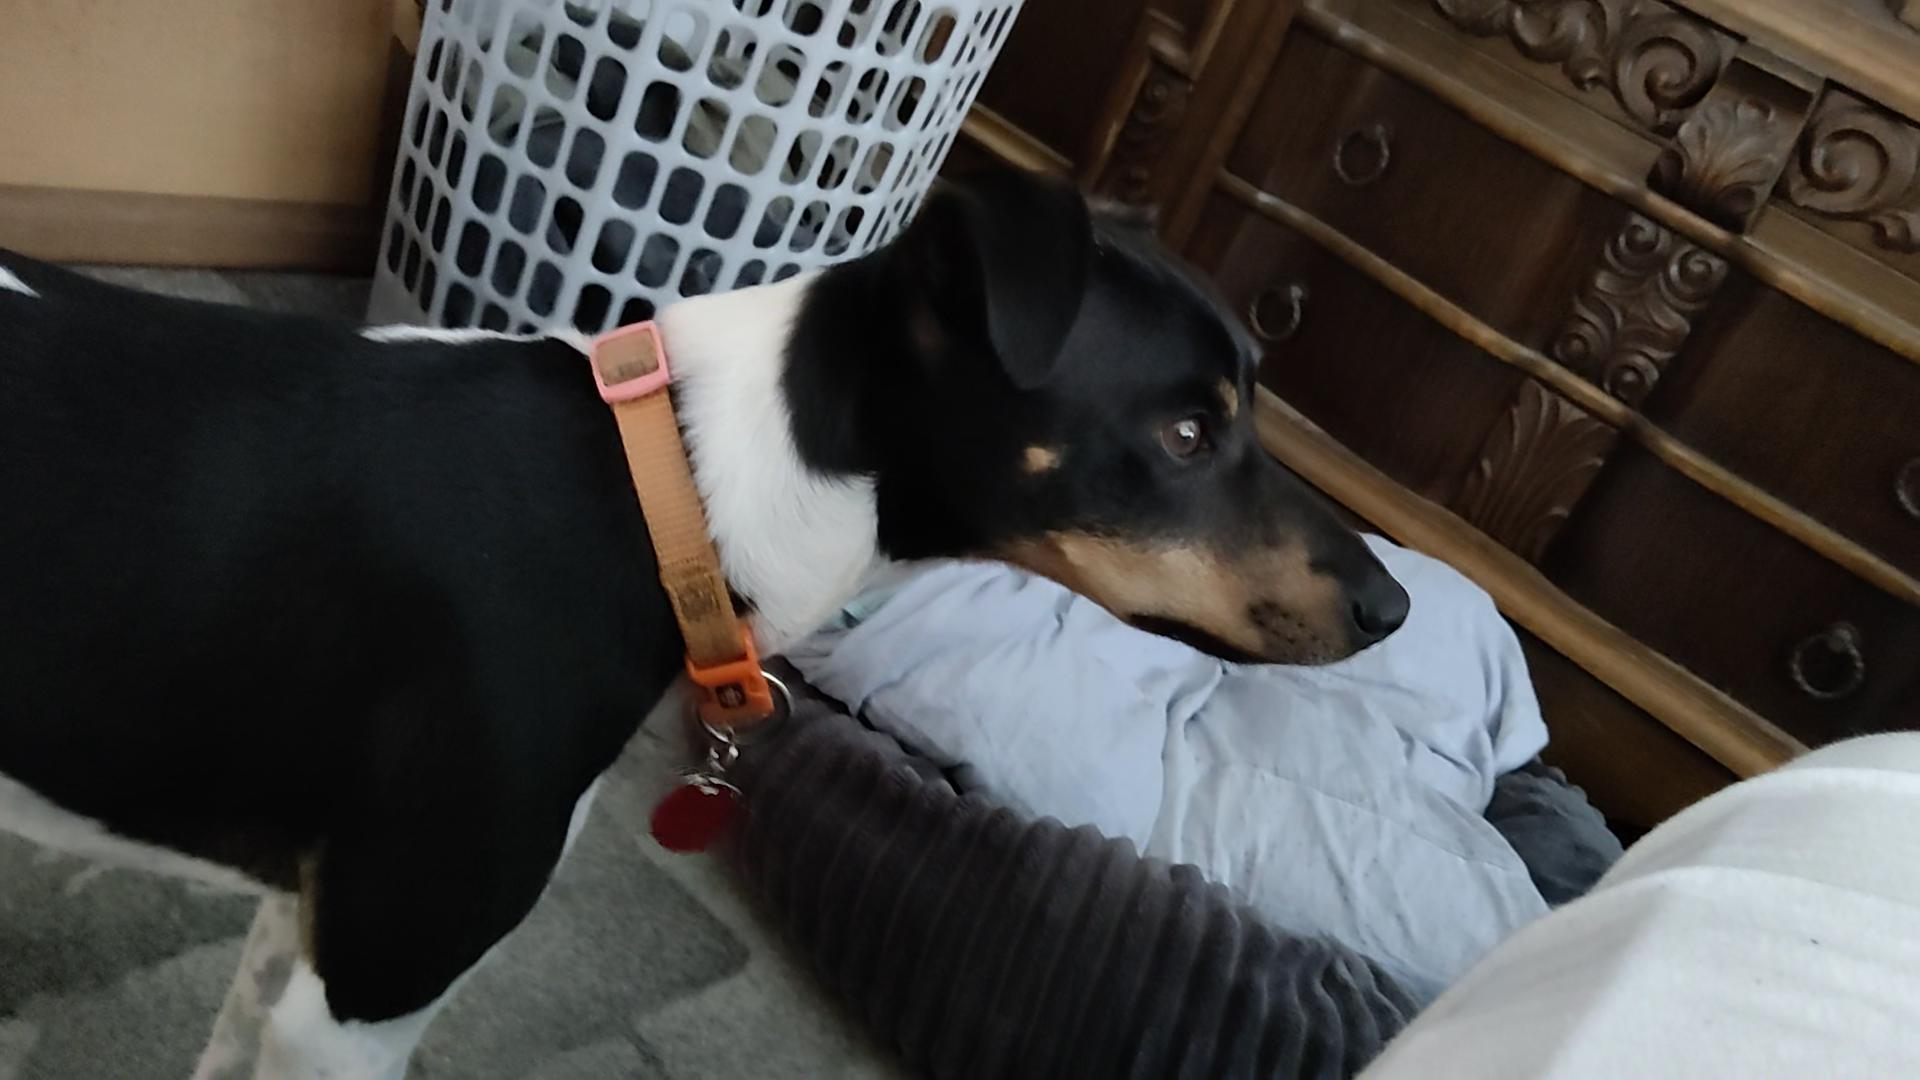Dog: (0, 145, 1424, 1079)
